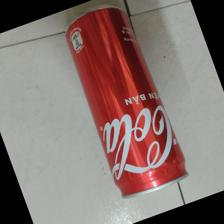Coca: (64, 6, 191, 200)
